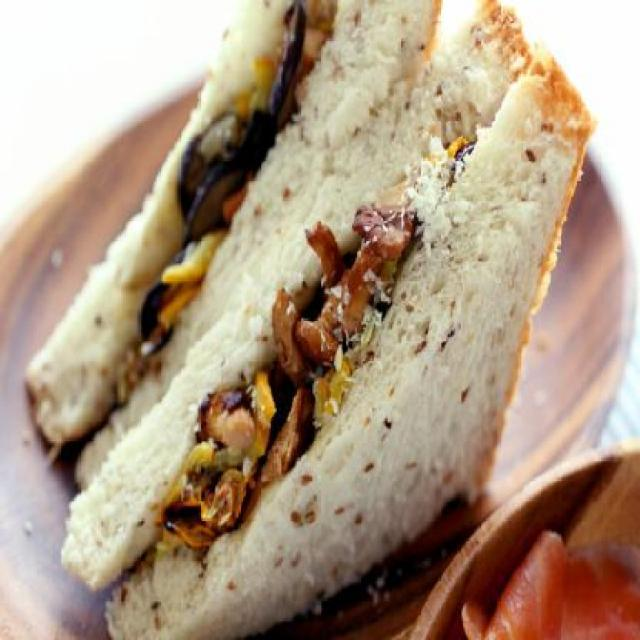Sandwich: (21, 0, 601, 638)
